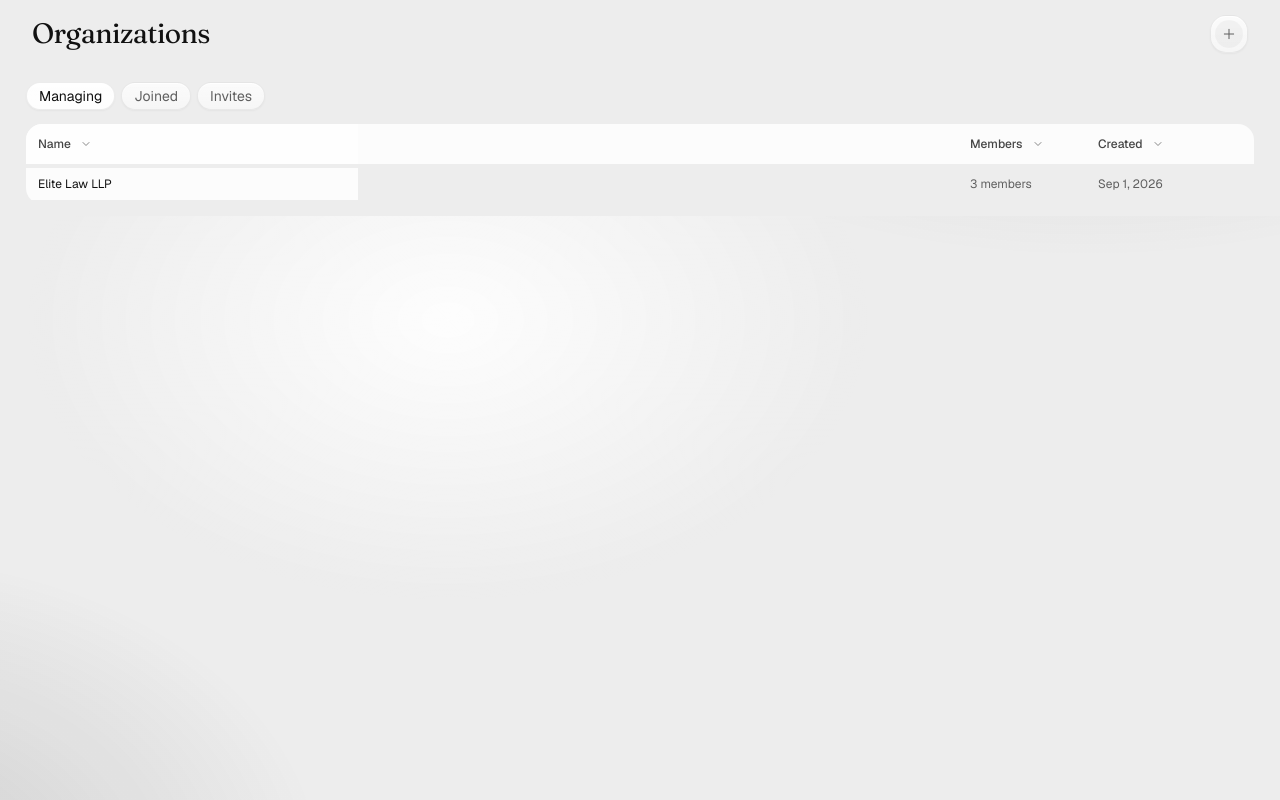
Scenario: OrganizationsOverview › separates organizations into Managing and Joined tabs
Expected: the text "Elite Law LLP" is shown, 38,176 -> 112,192
Expected: the button "Managing" is shown, 26,82 -> 115,110
Step 1. Click the button "Joined" → (156, 96), box 121,82 -> 191,110
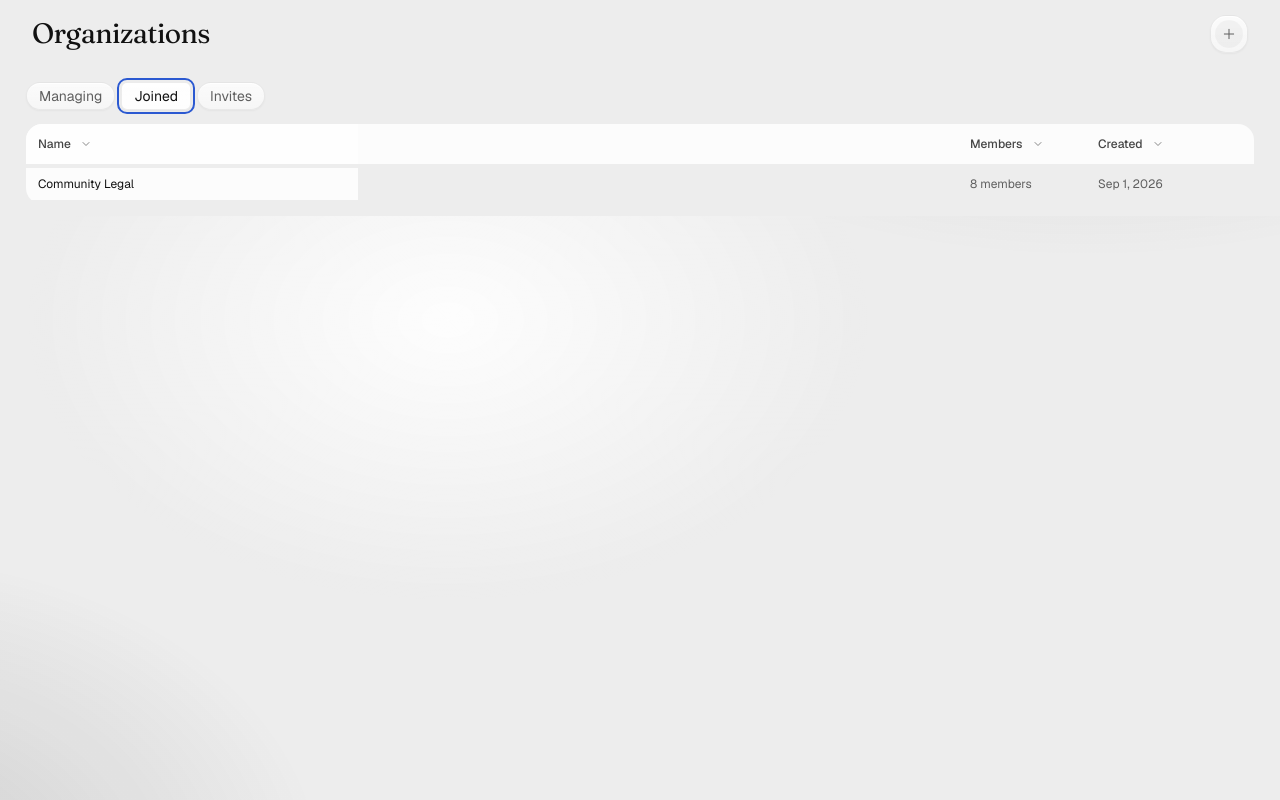
Expected: the text "Community Legal" is shown, 38,176 -> 134,192
Expected: the link "Elite Law LLP" is gone
